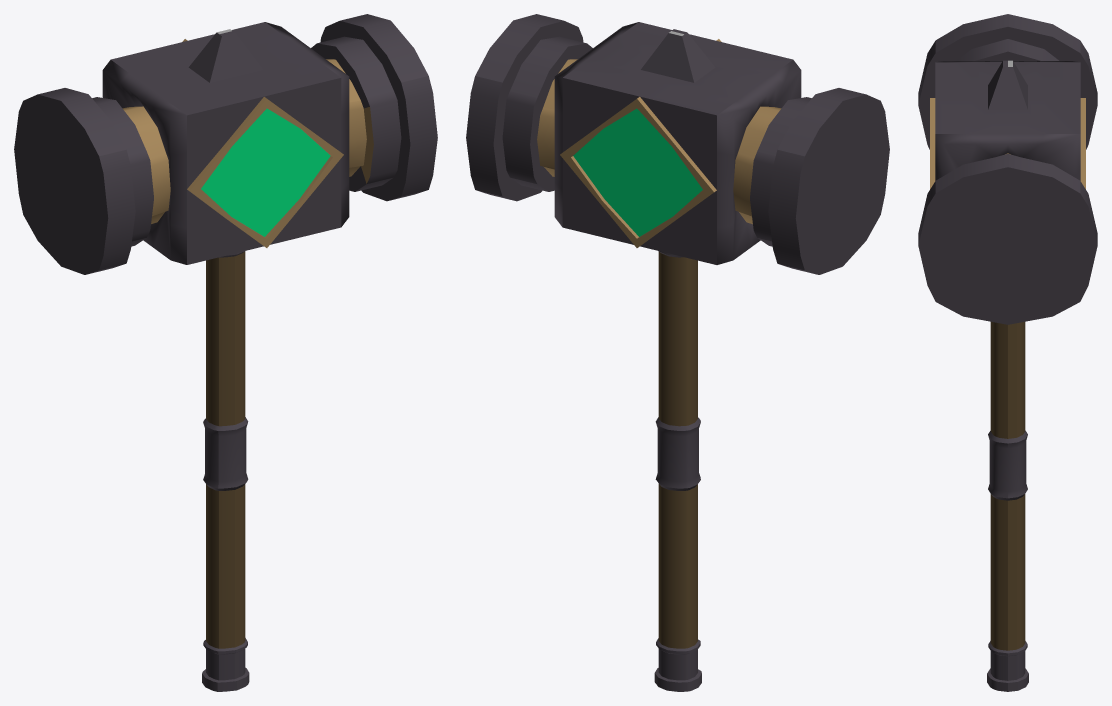
Rendered from Hammer_of_Glory_Textured.fbx.
3 renders of one model, left to right at view 1: azimuth 30°, elevation 25°; view 2: azimuth 150°, elevation 25°; view 3: azimuth 270°, elevation 25°, orthographic. The views are drawn at different scales.
Parts seen in each view (by area): view 1: pCube1; view 2: pCube1; view 3: pCube1.
Part boxes in pixels (<box>): pCube1: <box>14,14,437,691</box>; pCube1: <box>466,14,889,691</box>; pCube1: <box>918,14,1097,691</box>.
Bounding box in the file's own units: 0.7398 × 1.39 × 0.3659.
